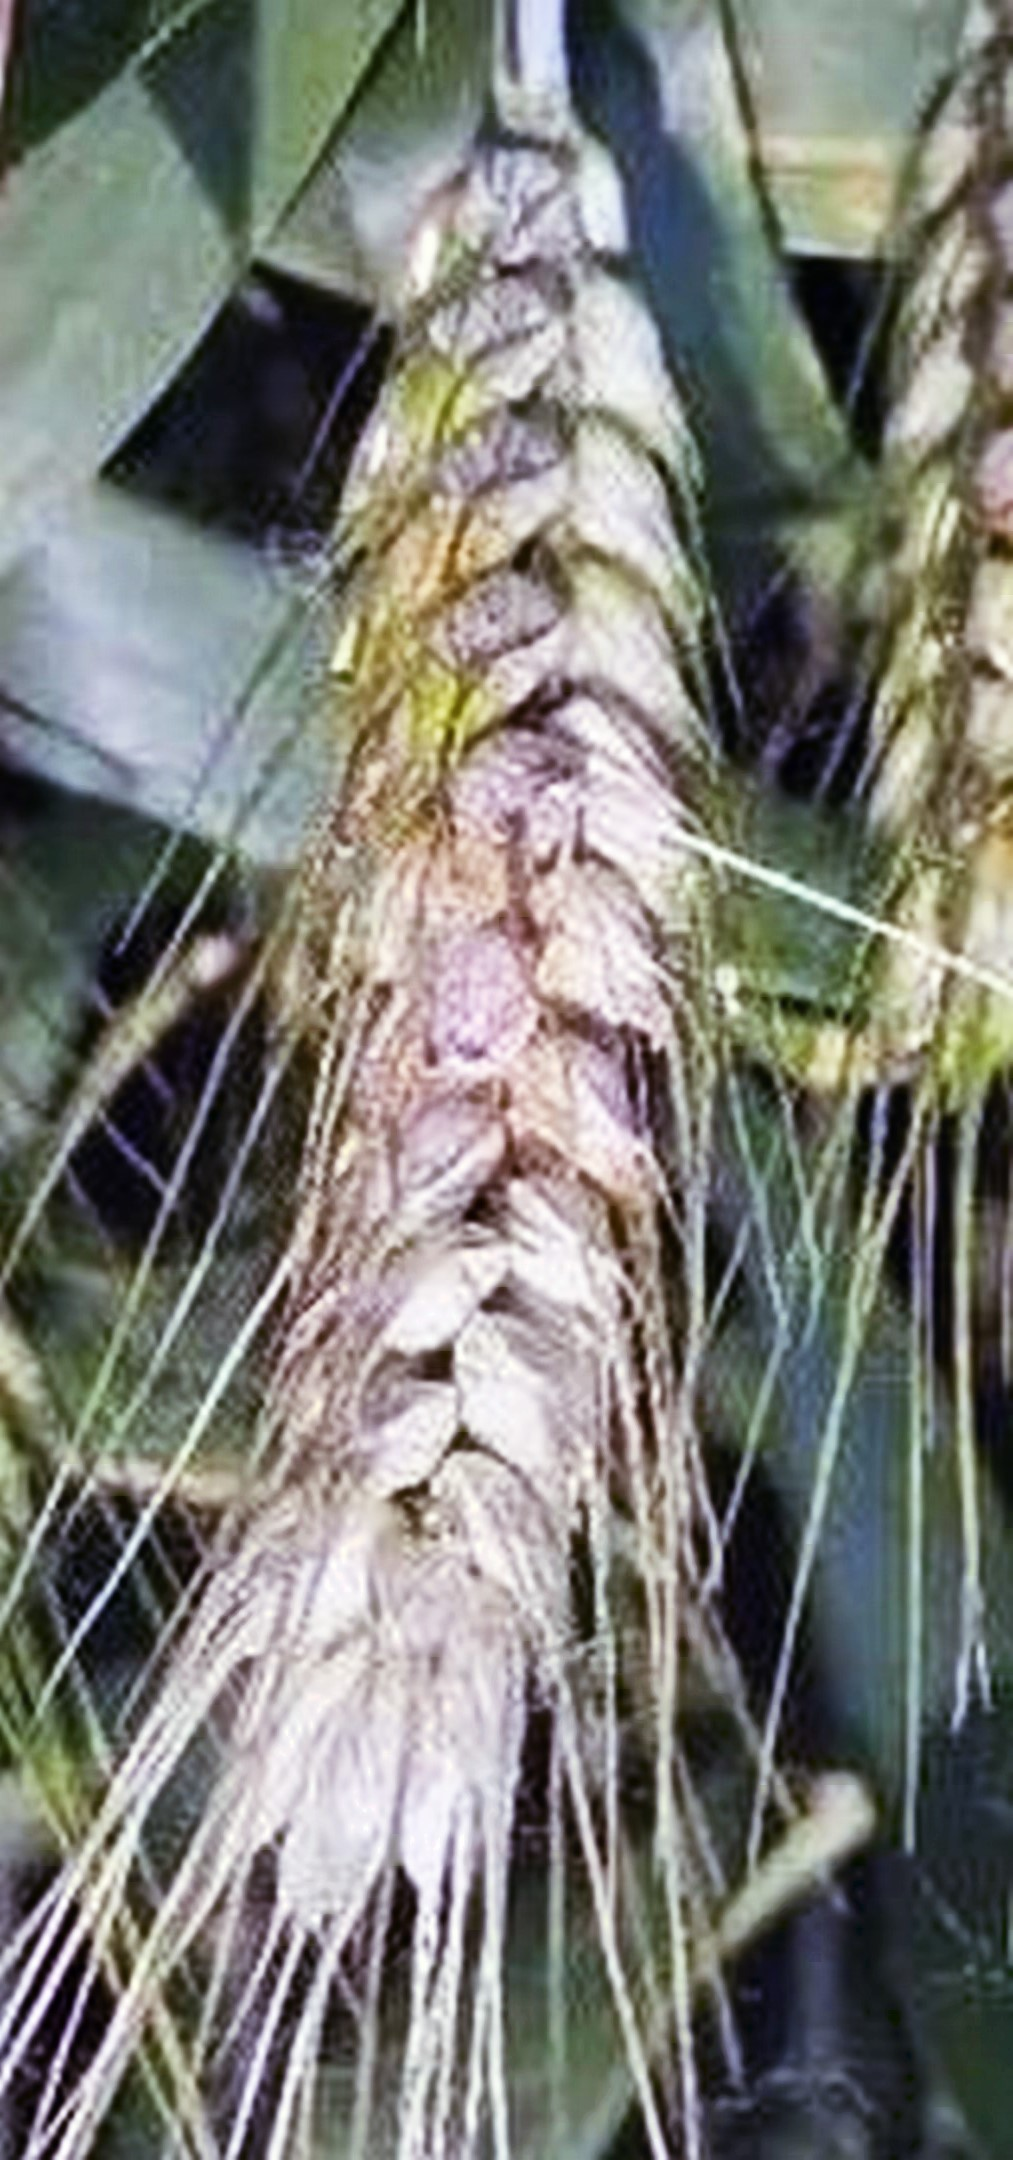Wheat scab: (278, 168, 713, 1840)
